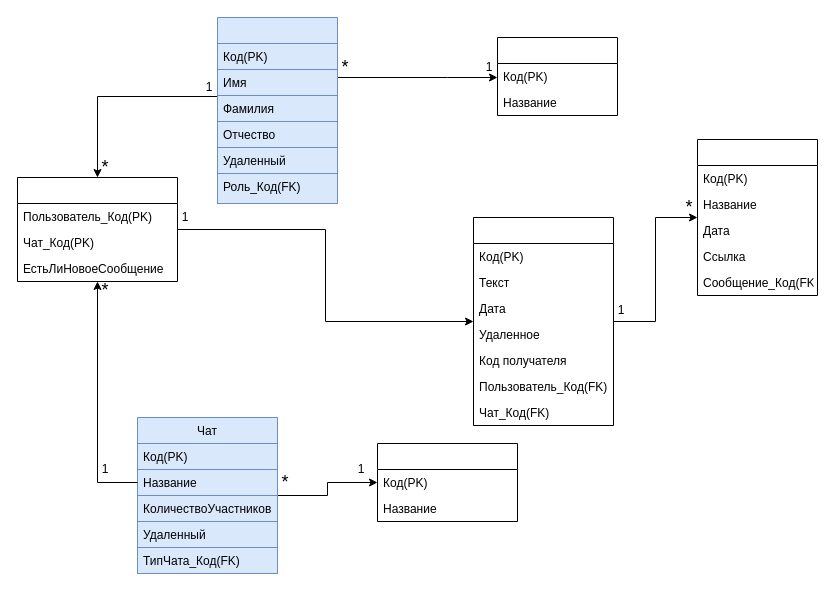
The diagram is 835 pixels wide and 594 high, and some of its shapes have lost their labels. Each missing label, with the box of its shape:
Документ: (696, 138, 818, 296)
Пользователь: (216, 16, 338, 204)
Пользователь_имеет_чат: (16, 176, 178, 282)
Роль: (496, 36, 618, 116)
Сообщение: (472, 216, 614, 426)
Тип чата: (376, 442, 518, 522)
